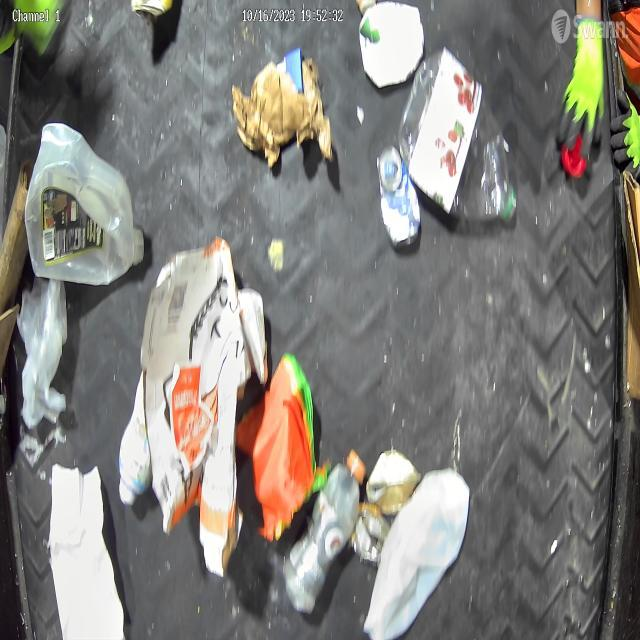can: (374, 140, 424, 253), (350, 496, 388, 568)
milk_jug: (367, 462, 472, 640)
non_white_jug: (27, 121, 144, 286)
plastic_bottle: (395, 44, 521, 235), (282, 440, 366, 616)
